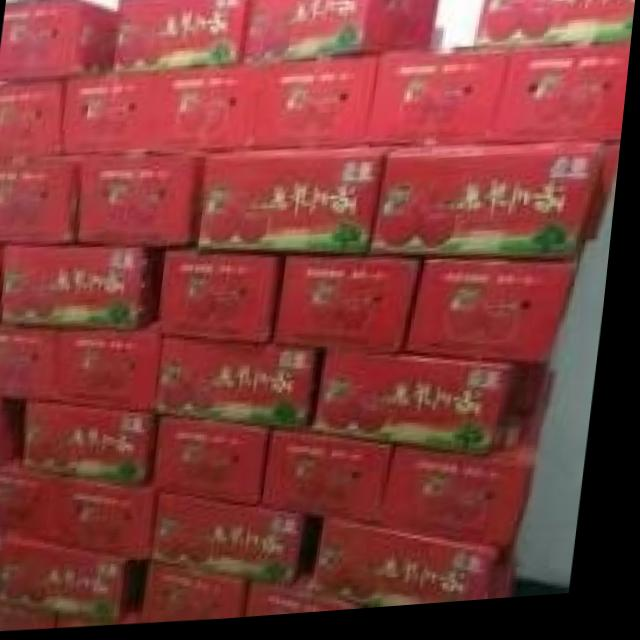box: (387, 380, 564, 559), (373, 152, 612, 266), (321, 355, 527, 464), (203, 152, 398, 260), (322, 523, 530, 616), (412, 264, 586, 372), (164, 338, 335, 437), (65, 68, 253, 157), (160, 492, 318, 594), (281, 258, 431, 360), (488, 53, 633, 154), (13, 472, 168, 565), (8, 243, 169, 331), (369, 55, 512, 154), (270, 432, 403, 535), (245, 0, 439, 68), (3, 536, 146, 627), (245, 57, 379, 153), (163, 251, 292, 348), (28, 405, 170, 492), (82, 156, 210, 248), (162, 417, 281, 511), (111, 0, 251, 77), (58, 328, 169, 417), (0, 0, 117, 81), (474, 0, 637, 56), (0, 156, 86, 244), (152, 565, 263, 626), (259, 567, 362, 622), (0, 79, 67, 157), (0, 327, 60, 404), (588, 152, 625, 249), (0, 397, 35, 470), (0, 457, 30, 536), (519, 372, 559, 425), (0, 602, 66, 632), (68, 615, 129, 630), (0, 243, 10, 321)
